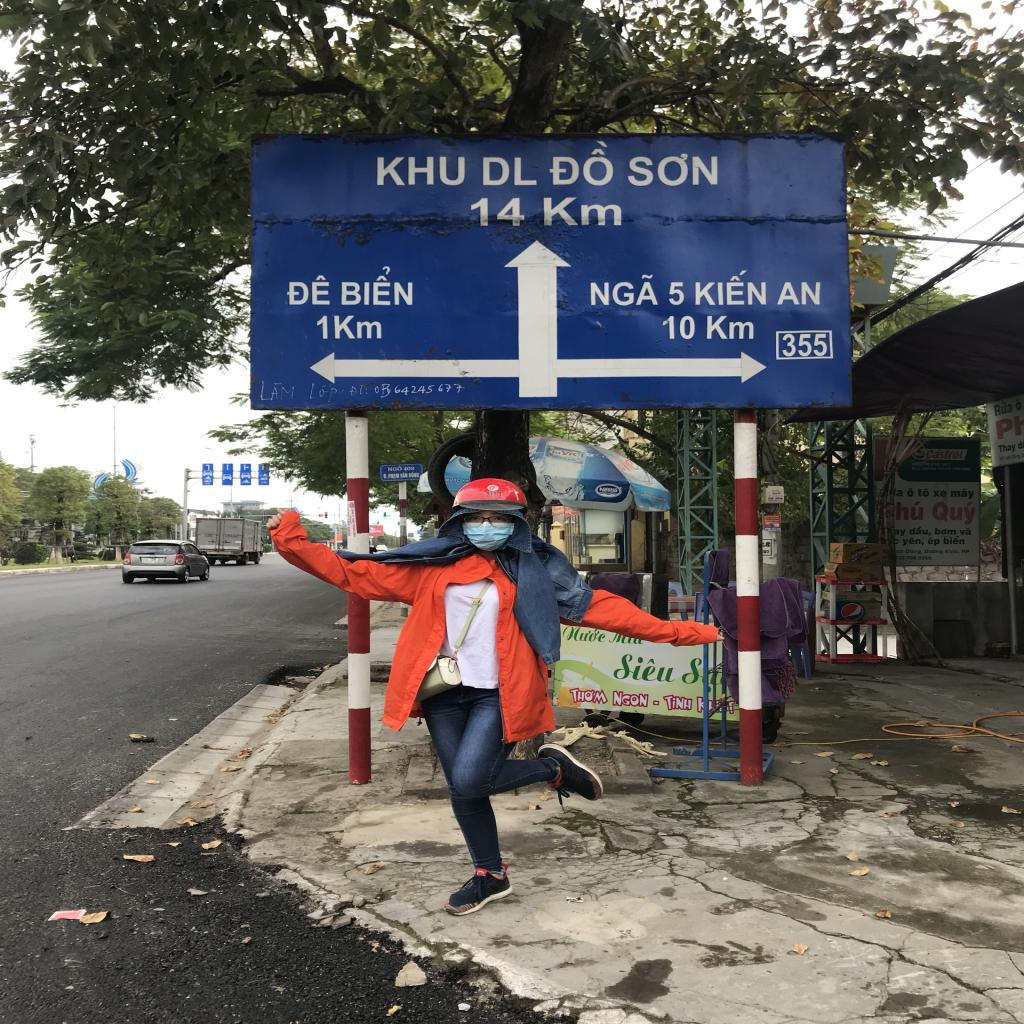text: (465, 194, 630, 232), (625, 150, 722, 190), (546, 140, 619, 192), (372, 152, 467, 188), (338, 266, 416, 308), (660, 312, 762, 344), (692, 268, 769, 308), (584, 270, 660, 308), (609, 651, 681, 687), (372, 378, 470, 402), (315, 314, 388, 344), (481, 153, 541, 188), (283, 272, 334, 308), (775, 276, 828, 308), (776, 331, 833, 358), (932, 500, 978, 528), (255, 376, 300, 402), (304, 379, 346, 404), (561, 624, 611, 644), (564, 685, 611, 706), (610, 688, 650, 710), (609, 452, 643, 474), (666, 278, 689, 307), (661, 693, 693, 712), (926, 449, 967, 460), (992, 399, 1015, 418), (348, 380, 369, 400), (548, 446, 583, 458), (850, 544, 872, 562), (950, 488, 975, 500), (942, 536, 969, 546), (996, 442, 1017, 454), (908, 526, 933, 536), (902, 537, 926, 547), (934, 526, 957, 536), (897, 555, 934, 561), (926, 536, 942, 547), (916, 486, 930, 498), (484, 490, 504, 498), (599, 486, 619, 494), (958, 526, 974, 536), (924, 548, 945, 555), (933, 488, 947, 498), (445, 476, 461, 484), (906, 548, 924, 555), (386, 465, 402, 472), (905, 487, 916, 497), (945, 548, 961, 554), (652, 698, 662, 707), (409, 471, 420, 479), (224, 533, 241, 538), (762, 540, 772, 548), (388, 473, 400, 479), (962, 548, 972, 555), (894, 548, 905, 554), (404, 466, 416, 471), (461, 478, 471, 483), (997, 455, 1004, 462), (400, 472, 408, 478), (633, 490, 641, 496), (382, 473, 388, 479)
